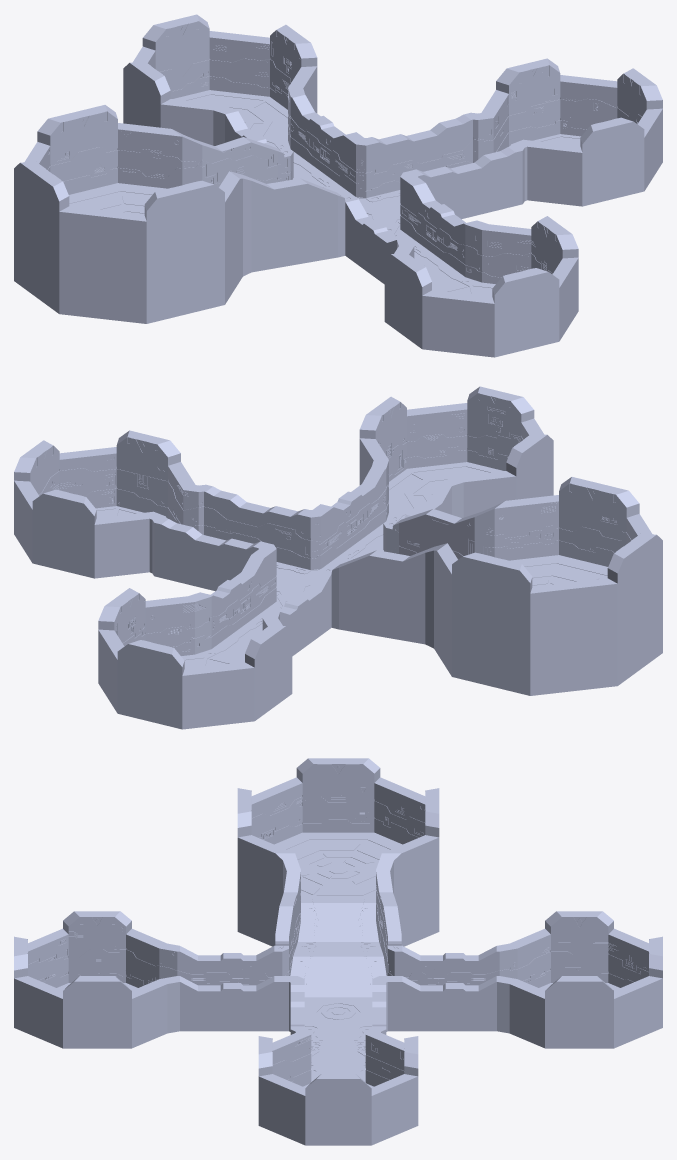
File: Base 1(Basic).FBX
3 renders of one model, top to bottom at view 1: azimuth 30°, elevation 25°; view 2: azimuth 150°, elevation 25°; view 3: azimuth 270°, elevation 25°, orthographic. The views are drawn at different scales.
Visible parts, largest first — view 1: Cut-Extrude80; view 2: Cut-Extrude80; view 3: Cut-Extrude80.
Boxes of the visible parts, x1,y1,x2,y2 form: Cut-Extrude80: (14, 14, 662, 357); Cut-Extrude80: (14, 386, 662, 729); Cut-Extrude80: (14, 758, 662, 1145).
Bounding box in the file's own units: 3672 × 709 × 3677.
